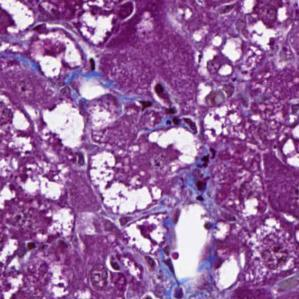ballooning: (27, 27, 85, 82)
